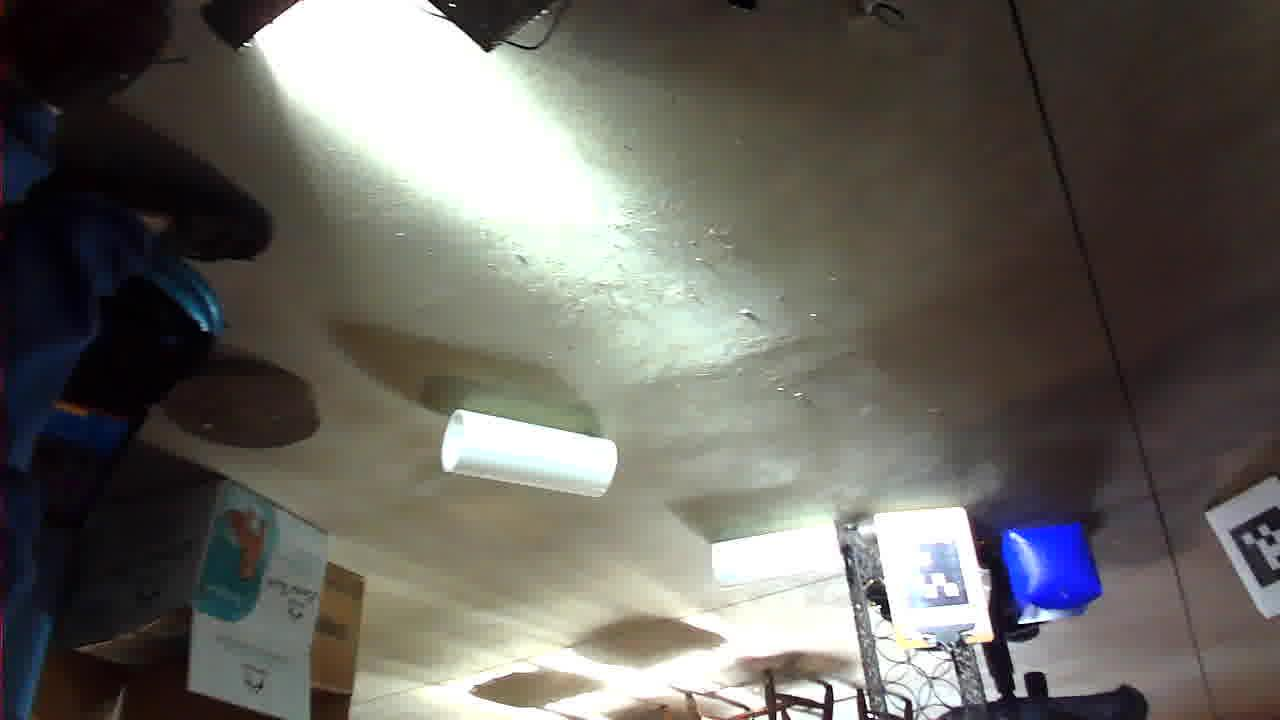coral: (665, 223, 839, 310), (442, 135, 568, 194)
